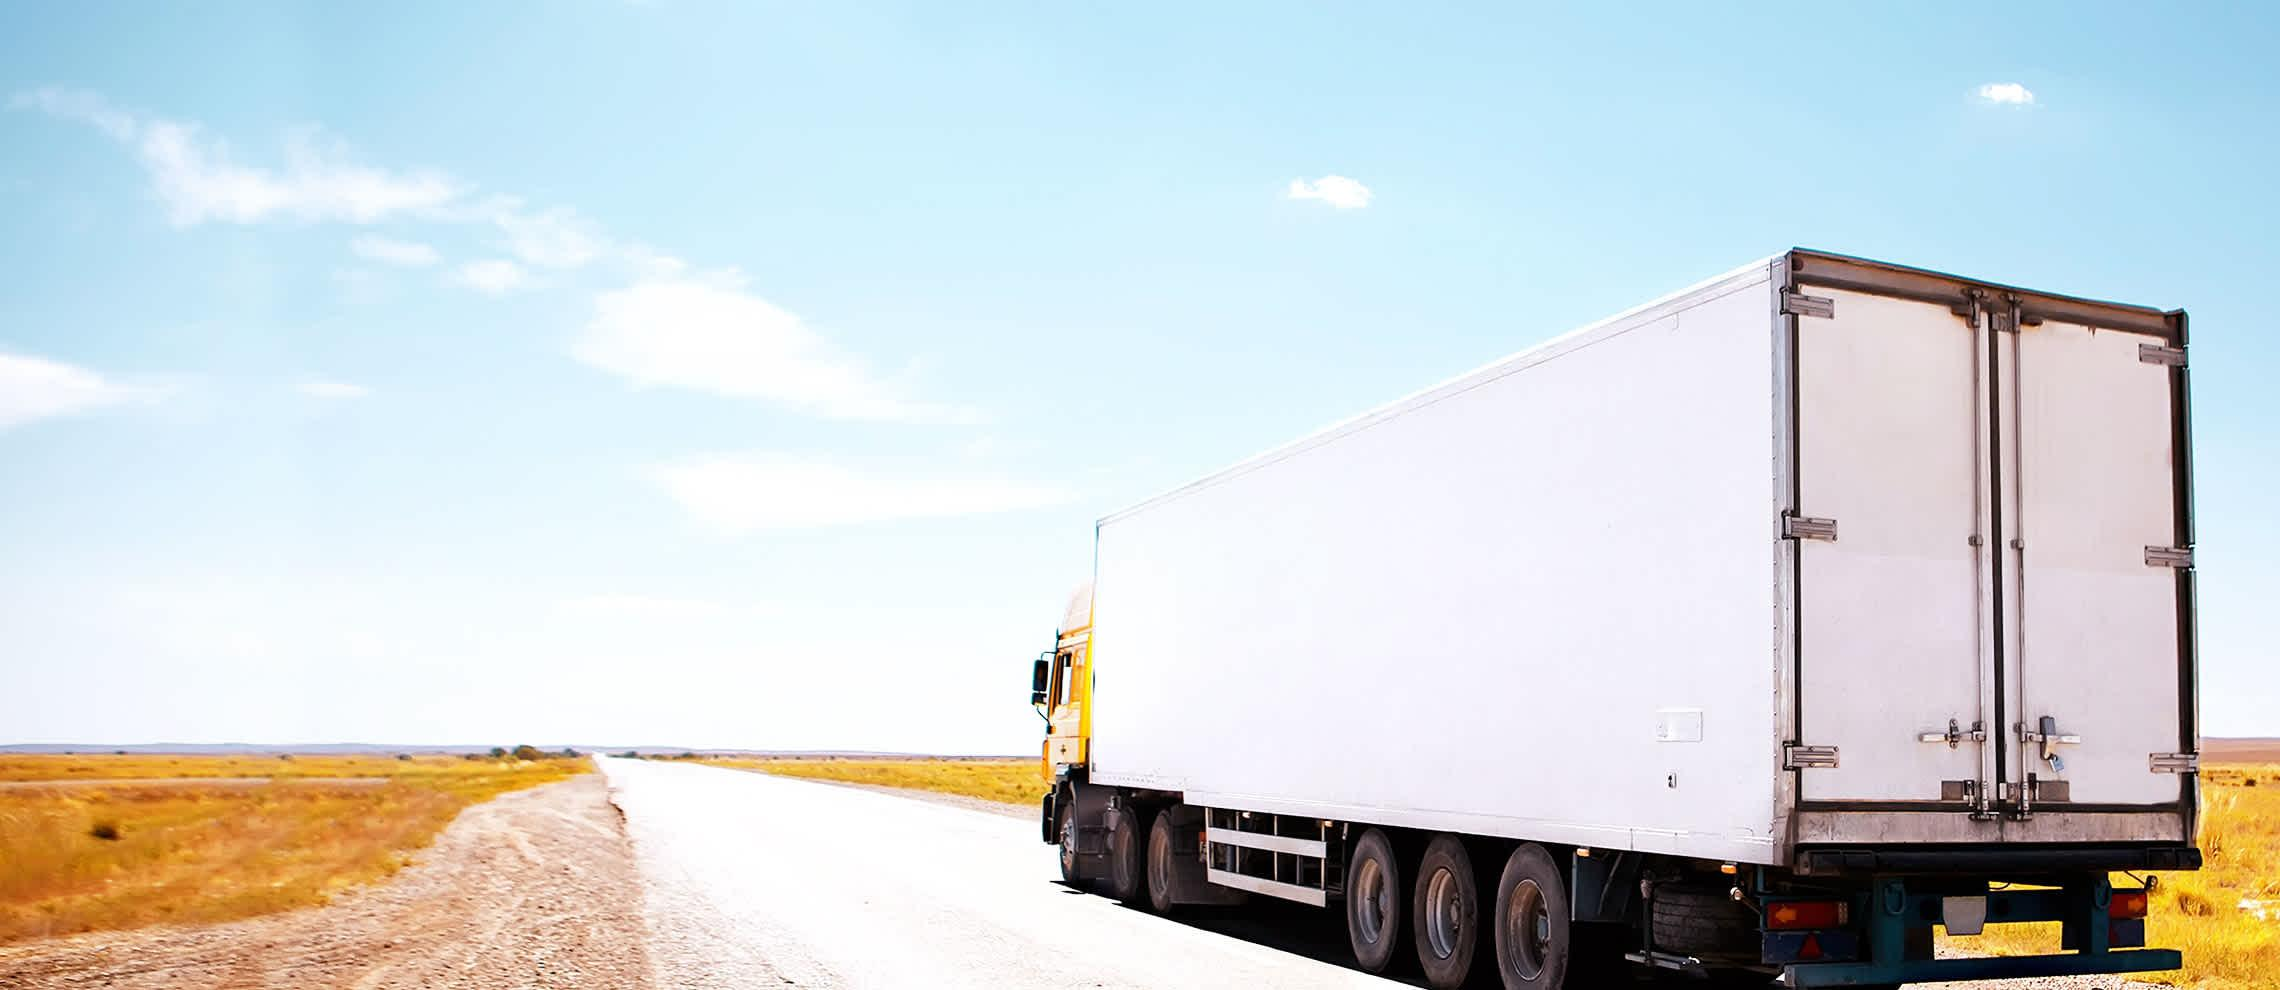truck: (963, 240, 2279, 990)
